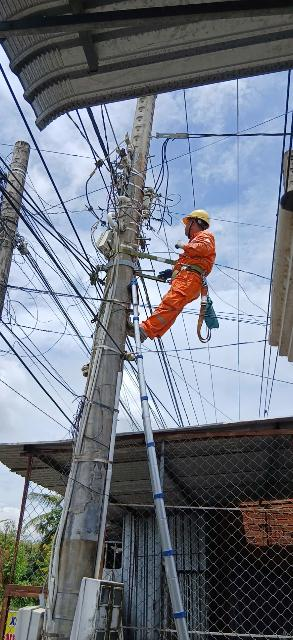gloves: (155, 267, 178, 280), (173, 239, 189, 252)
harness: (173, 258, 208, 280)
helmet: (177, 207, 228, 239)
shoes: (128, 310, 152, 340), (126, 326, 147, 344)
